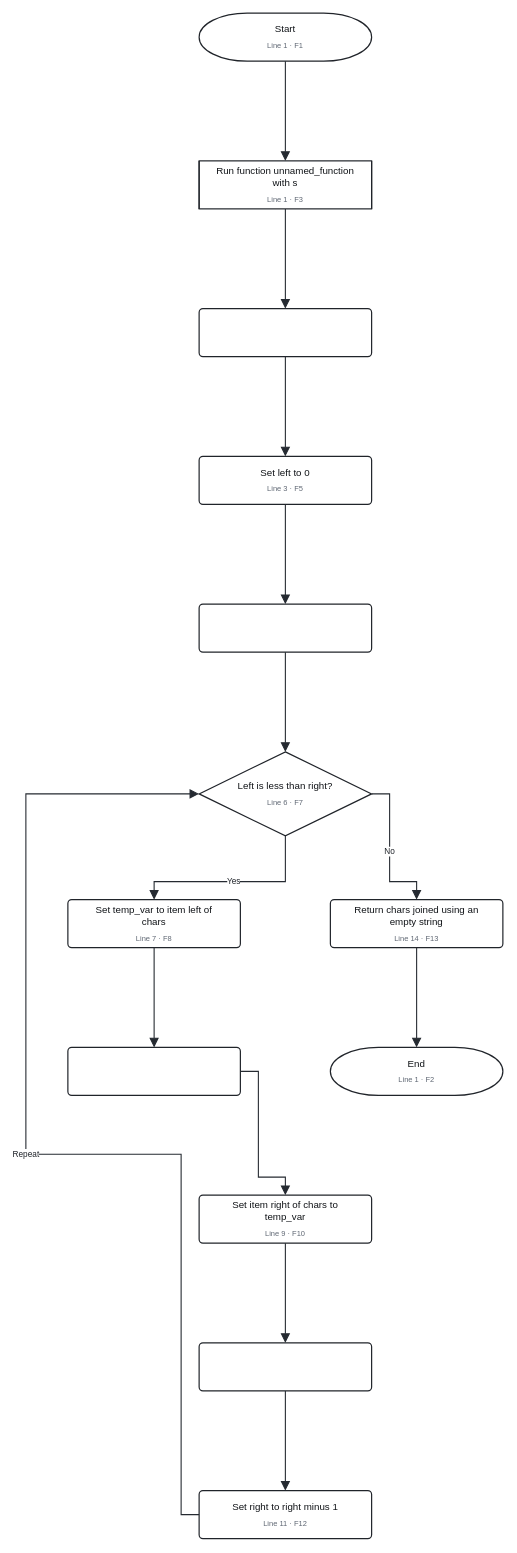
Some shapes in this 517 by 1553 pixel diagram are drawn without their labels. The box of each missing label's shape, as (x1, y1, x2, y2) in pixels:
Set chars to the result of to_array(s) Line 2 · F4: (198, 308, 372, 357)
Set item left of chars to item right of chars Line 8 · F9: (67, 1046, 241, 1096)
Set left to left plus 1 Line 10 · F11: (198, 1342, 372, 1391)
Set right to the length of s minus 1 Line 4 · F6: (198, 603, 372, 652)
